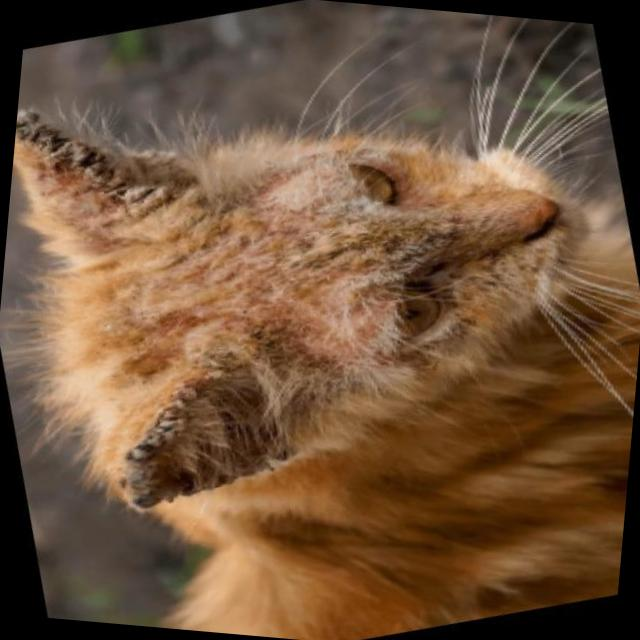Mange: (104, 417, 210, 519), (358, 221, 465, 304), (11, 90, 96, 180), (212, 429, 317, 496), (92, 150, 179, 227), (138, 359, 222, 435)
